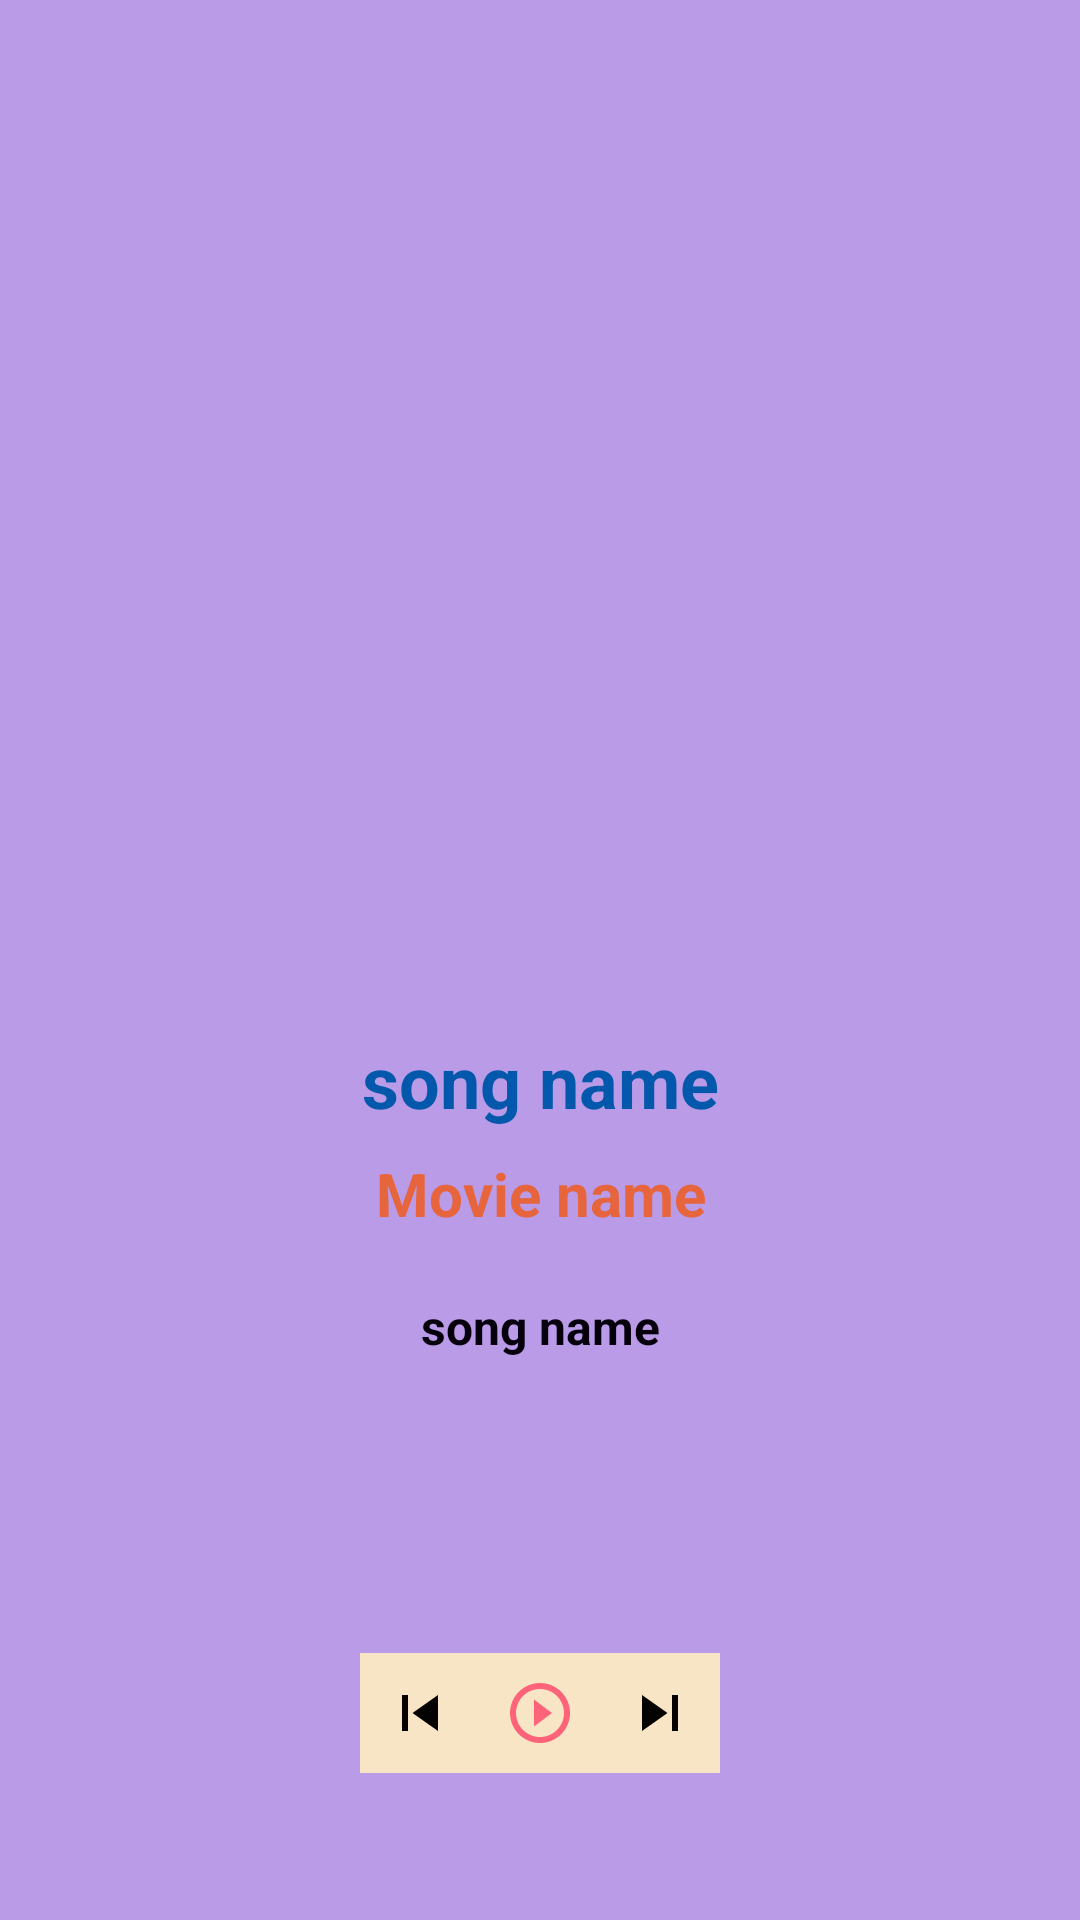

Icon click points for this 1080 × 1920 phone screenshot, format [x,y]:
play: [540,1713]
